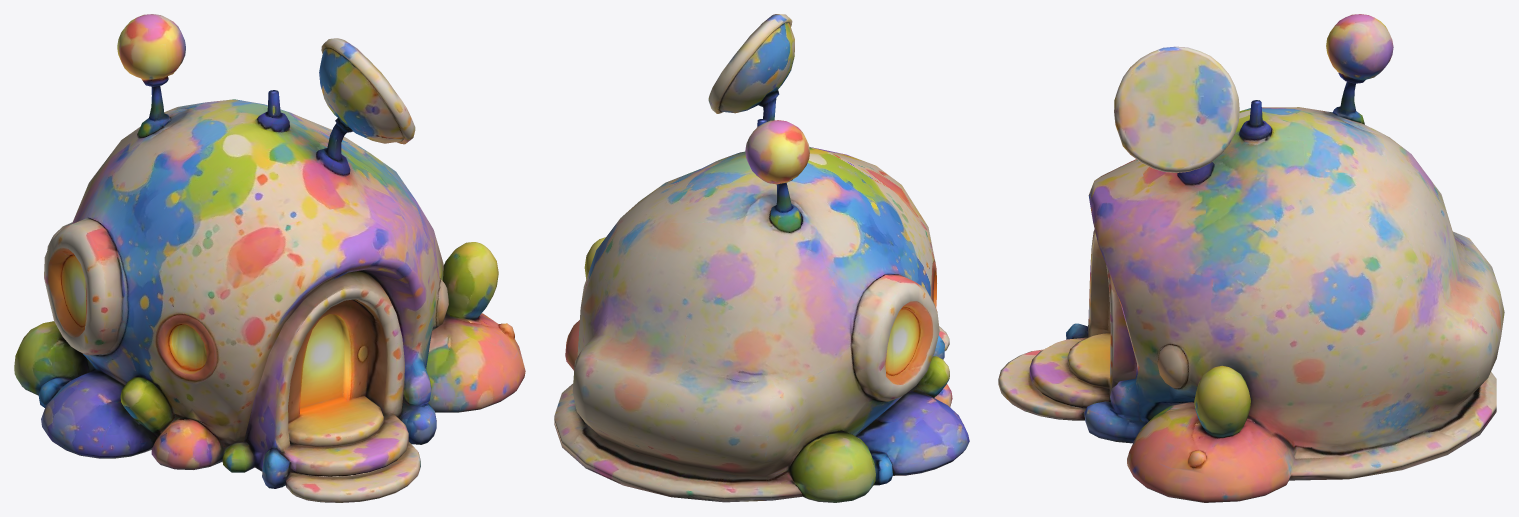
The model's file is alien_building_01.glb.
3 views of the same model, side by side, from view 1: azimuth 30°, elevation 25°; view 2: azimuth 150°, elevation 25°; view 3: azimuth 270°, elevation 25° (orthographic). The views are drawn at different scales.
Parts seen in each view (by area): view 1: tripo_node_1d10282b-9866-46c8-934f-4231158cc595; view 2: tripo_node_1d10282b-9866-46c8-934f-4231158cc595; view 3: tripo_node_1d10282b-9866-46c8-934f-4231158cc595.
Part boxes in pixels (bbox=[...]): tripo_node_1d10282b-9866-46c8-934f-4231158cc595: bbox=[14, 14, 525, 502]; tripo_node_1d10282b-9866-46c8-934f-4231158cc595: bbox=[554, 14, 969, 502]; tripo_node_1d10282b-9866-46c8-934f-4231158cc595: bbox=[998, 14, 1504, 502].
Bounding box in the file's own units: 0.9693 × 0.7993 × 0.9995.
1 material, 1 textured.
